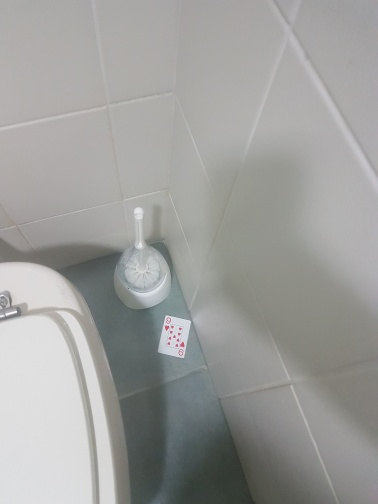nine: (155, 313, 193, 359)
